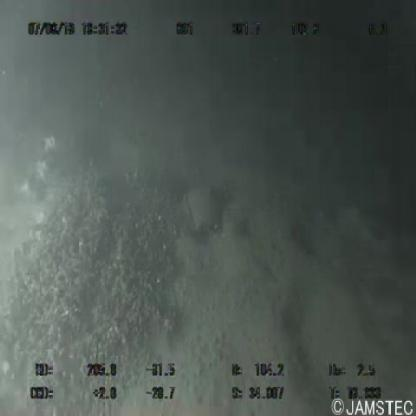Rác: (178, 183, 228, 242)
